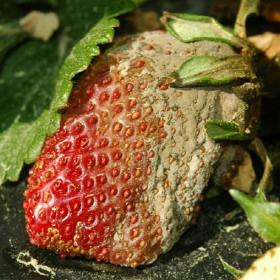Gray Mold: (21, 20, 267, 268)
